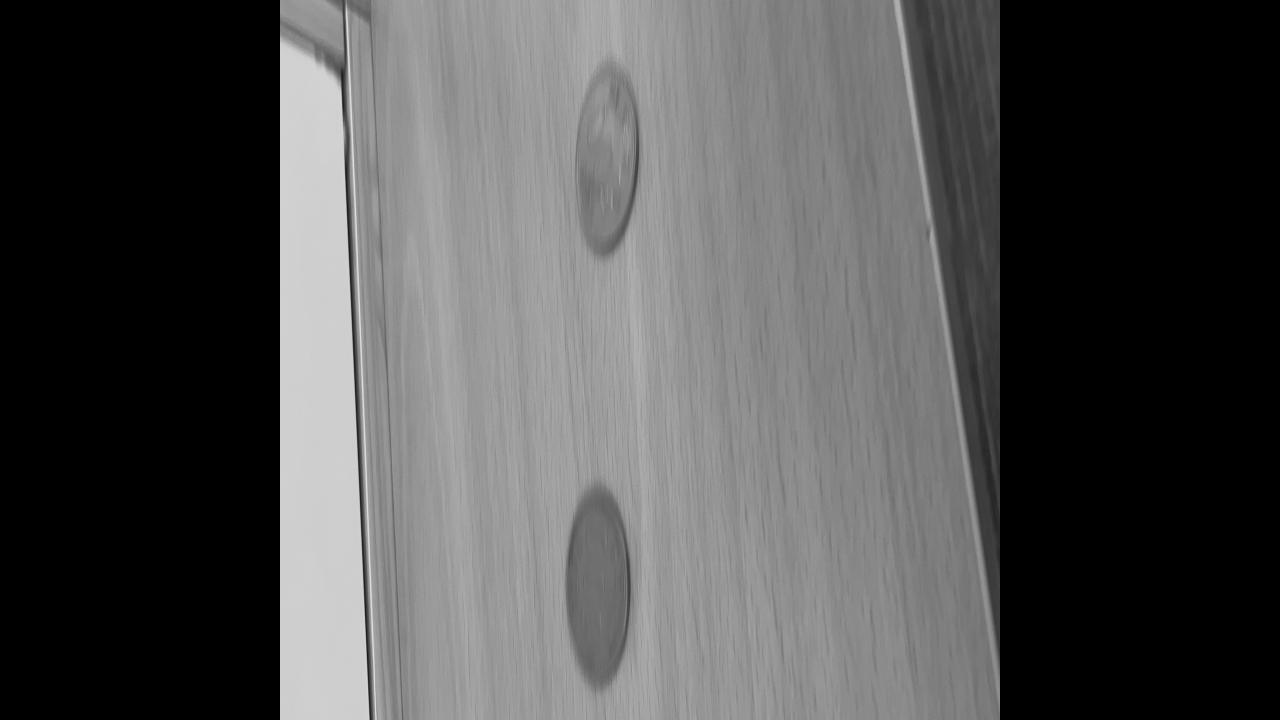coin: (562, 484, 633, 692), (571, 57, 641, 257)
